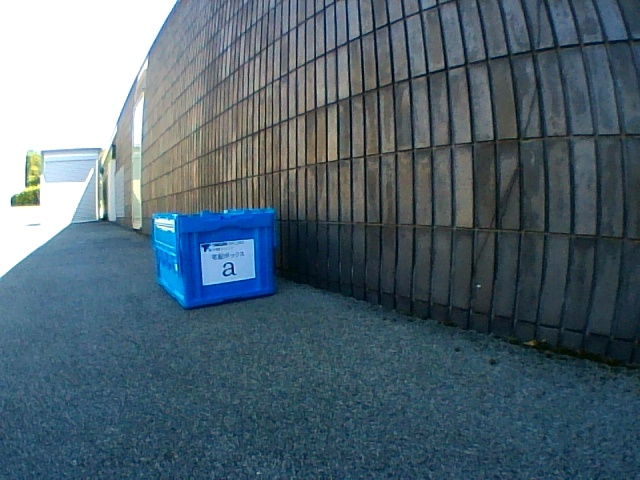blue_box: (151, 208, 280, 309)
tag_a: (208, 246, 248, 278)
